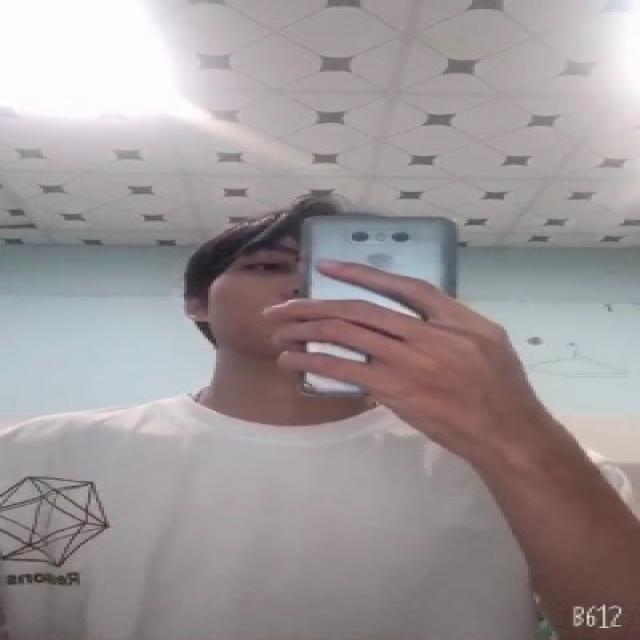Phone: (298, 211, 461, 399)
